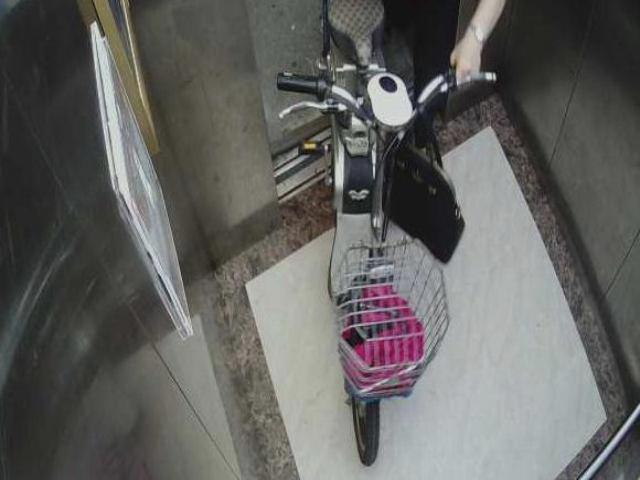emotor: (263, 2, 482, 460)
